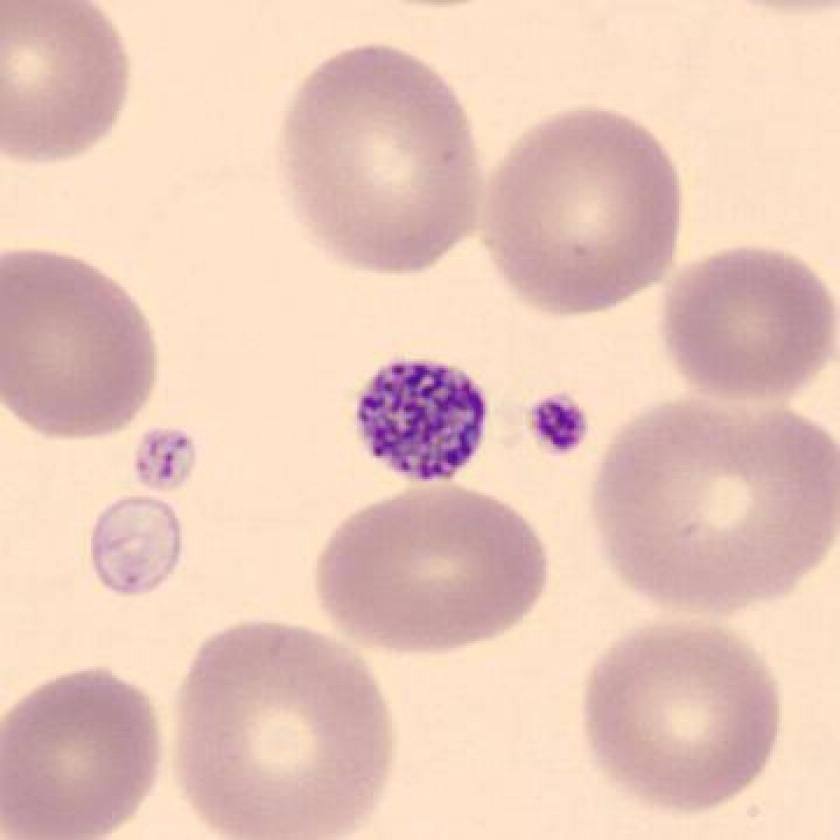platelets: (349, 346, 493, 498), (519, 383, 596, 466), (125, 425, 211, 499)
